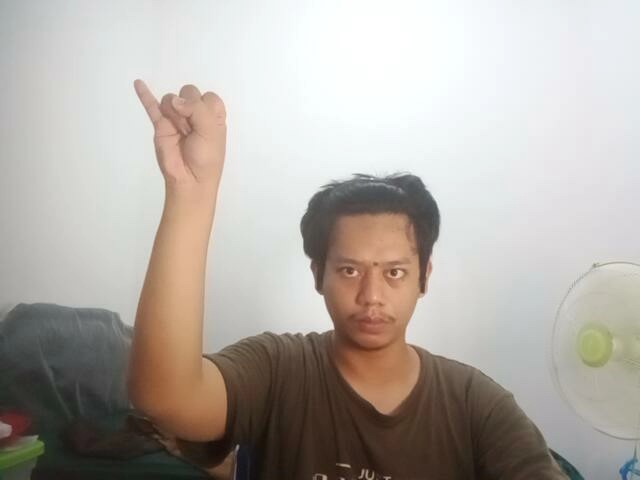I: (117, 61, 251, 203)
